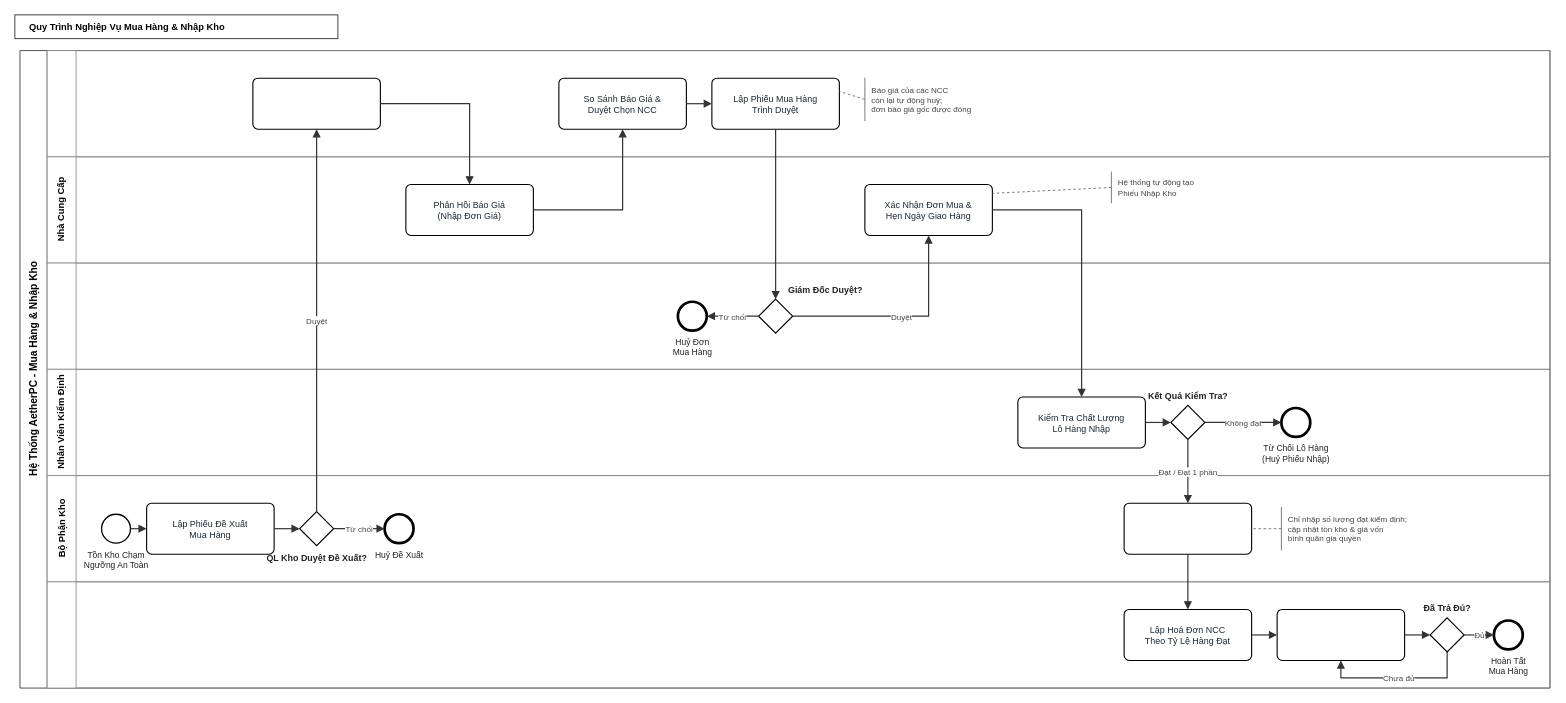
Image size: 1566x703. Some labels were removed from this diagram. The shapes that lost their labels are listed below. From the top down, each one's box as (x1, y1, x2, y2) in pixels, then its label:
(252, 77, 381, 129): Lập & Gửi Đơn Báo Giá Tới Các NCC
(46, 50, 1550, 157): Phòng Mua Hàng
(46, 262, 1550, 369): Ban Giám Đốc
(1123, 502, 1252, 554): Nghiệm Thu Nhập Kho + Quét Số Serial
(46, 581, 1550, 688): Nhân Viên Kế Toán
(1276, 609, 1405, 661): Thanh Toán NCC & Ghi Sổ Cái
